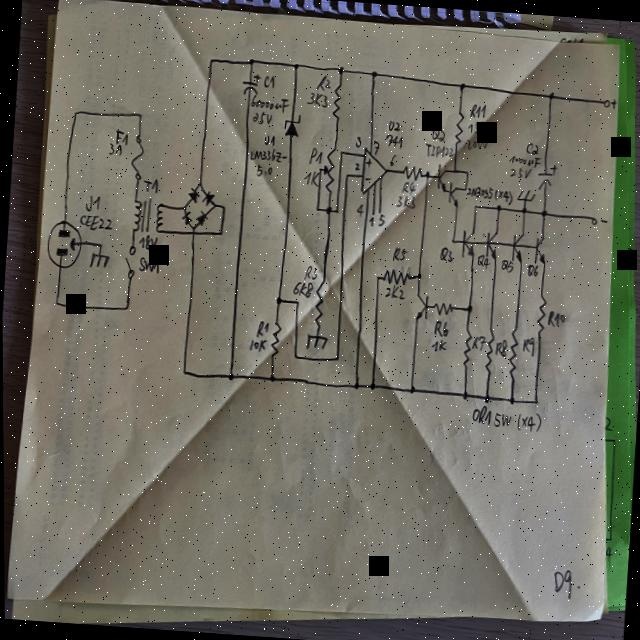capacitor: (534, 162, 557, 192), (241, 73, 260, 96)
crossover: (188, 230, 194, 237)
diode: (281, 115, 300, 138), (201, 190, 214, 207), (187, 187, 199, 203), (196, 209, 207, 226), (181, 210, 192, 225)
ground: (303, 332, 328, 352), (88, 250, 109, 270), (515, 188, 534, 202)
junction: (335, 64, 344, 76), (274, 294, 283, 306), (457, 80, 466, 92), (71, 107, 80, 119), (546, 90, 555, 101), (464, 303, 473, 314), (459, 389, 468, 400), (369, 68, 378, 79), (225, 371, 234, 382), (267, 372, 276, 383), (367, 381, 376, 392), (352, 380, 361, 391), (407, 384, 416, 395), (507, 395, 516, 406), (481, 392, 490, 403), (539, 208, 547, 218), (531, 396, 539, 406), (122, 302, 130, 312), (136, 110, 144, 120), (291, 350, 299, 360), (415, 271, 423, 280), (291, 61, 299, 70), (324, 206, 332, 214), (495, 204, 503, 212), (180, 367, 187, 376), (248, 58, 255, 66), (207, 56, 214, 64), (53, 298, 60, 306), (471, 202, 478, 210), (219, 204, 226, 212), (217, 228, 224, 236), (449, 237, 456, 244), (520, 207, 527, 214), (337, 148, 343, 156), (96, 242, 102, 250), (333, 354, 339, 362), (424, 170, 430, 178), (463, 169, 469, 176), (181, 205, 186, 212), (315, 206, 320, 212), (343, 172, 348, 178), (198, 180, 202, 187), (190, 225, 194, 230), (334, 208, 337, 214), (295, 298, 298, 304), (375, 274, 378, 280), (452, 167, 455, 173), (212, 203, 215, 207), (318, 167, 320, 171), (463, 187, 465, 190)
resistor: (311, 282, 327, 331), (321, 145, 336, 193), (505, 330, 519, 378), (267, 320, 282, 359), (329, 83, 344, 122), (380, 266, 409, 286), (451, 110, 466, 148), (460, 328, 474, 367), (534, 294, 547, 335), (401, 163, 424, 182), (482, 338, 494, 372), (432, 300, 453, 316)
switch: (121, 243, 136, 280)
terminal: (589, 215, 598, 226), (602, 98, 611, 109), (370, 212, 374, 216), (377, 210, 381, 213)
text: (248, 145, 287, 166), (249, 95, 290, 114), (467, 185, 513, 200), (79, 214, 113, 232), (468, 404, 493, 426), (423, 142, 453, 159), (291, 276, 314, 298), (506, 153, 539, 168), (516, 412, 540, 431), (137, 256, 161, 274), (82, 192, 101, 214), (250, 110, 275, 126), (546, 308, 565, 328), (383, 131, 403, 150), (492, 408, 509, 428), (137, 234, 158, 250), (509, 166, 533, 180), (306, 91, 328, 106), (396, 192, 415, 209), (384, 284, 404, 300), (467, 120, 487, 136), (247, 336, 267, 352), (255, 162, 275, 178), (469, 102, 487, 119), (520, 335, 534, 356), (142, 178, 159, 195), (303, 264, 319, 282), (465, 137, 487, 150), (432, 319, 447, 338), (429, 126, 446, 142), (438, 245, 454, 262), (308, 146, 323, 164), (494, 338, 507, 358), (391, 246, 407, 262), (260, 74, 276, 90), (430, 338, 447, 353), (523, 141, 540, 156), (475, 253, 490, 270), (303, 171, 319, 186), (499, 258, 514, 274), (315, 74, 330, 90), (400, 180, 416, 194), (386, 118, 402, 132), (524, 263, 538, 278), (472, 334, 483, 351), (108, 141, 121, 155), (256, 320, 267, 336), (115, 130, 128, 142), (262, 134, 275, 146), (353, 134, 362, 148), (377, 213, 385, 227), (352, 160, 361, 172), (597, 217, 608, 226), (356, 204, 364, 216), (372, 140, 378, 154), (389, 154, 395, 166), (367, 216, 374, 226), (365, 158, 372, 168), (610, 98, 616, 108), (364, 176, 371, 181)
transformer: (130, 195, 165, 238)
transistor: (412, 292, 430, 321), (532, 234, 548, 266), (481, 230, 498, 258), (460, 228, 475, 259), (510, 232, 524, 264), (446, 180, 460, 210), (433, 164, 448, 190)
